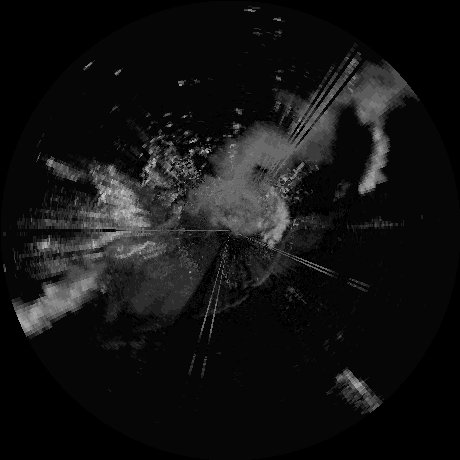frontgust: (257, 229, 292, 285), (206, 294, 247, 314)
